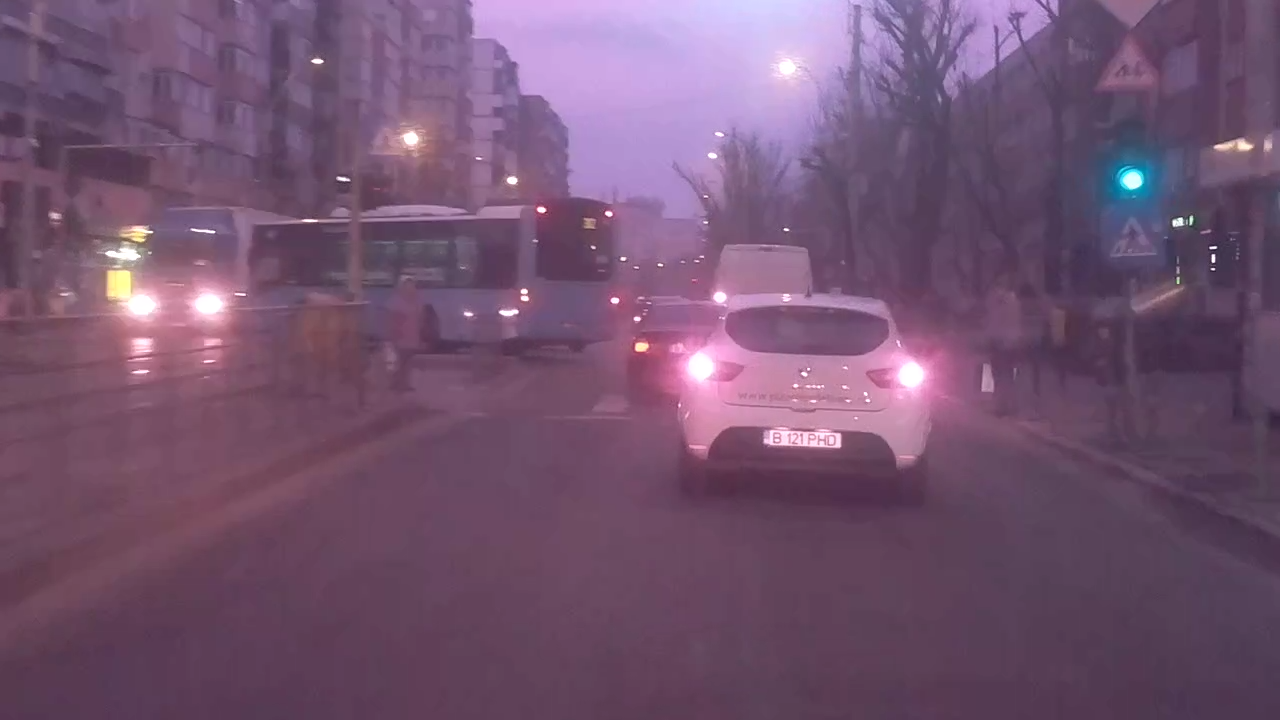license-plate: (762, 426, 843, 450)
